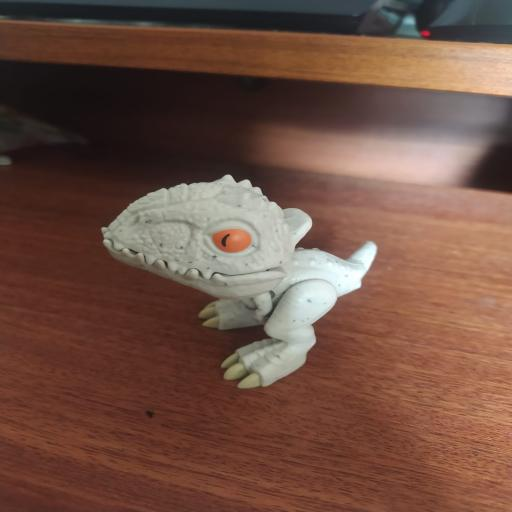Dinosaurio: (92, 166, 390, 394)
